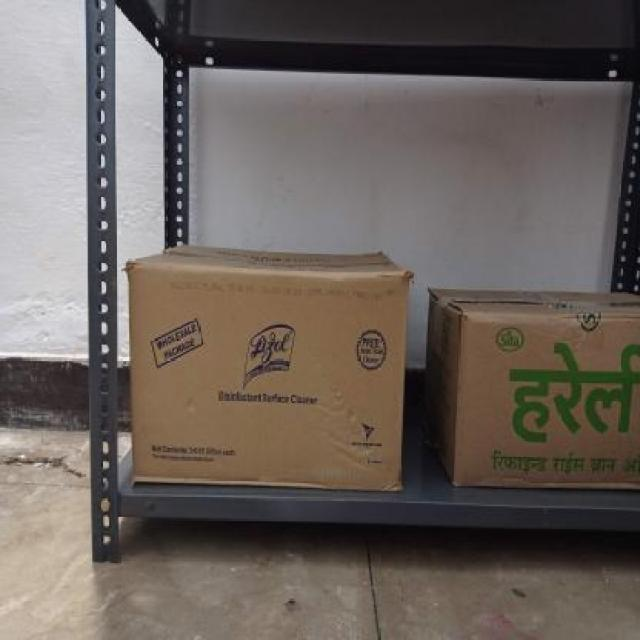box: (130, 270, 407, 482), (457, 314, 640, 488)
